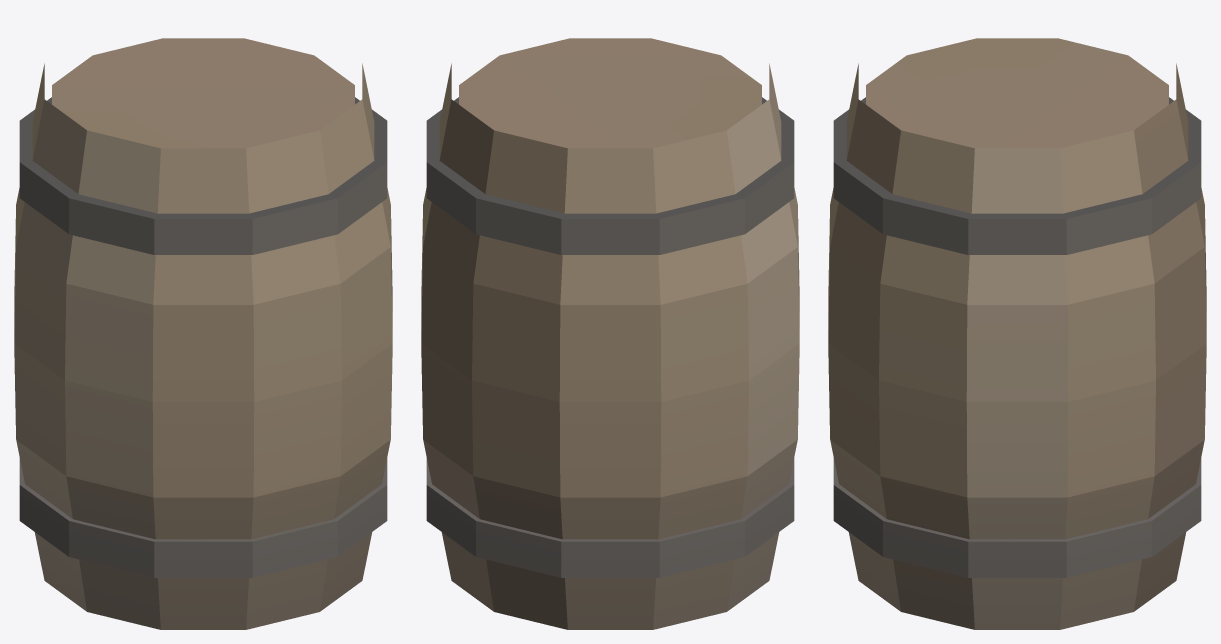
The model's file is barrel.glb.
3 renders of one model, left to right at view 1: azimuth 30°, elevation 25°; view 2: azimuth 150°, elevation 25°; view 3: azimuth 270°, elevation 25°, orthographic.
Size of the model in its own units: 0.5699 by 0.8 by 0.5699.
